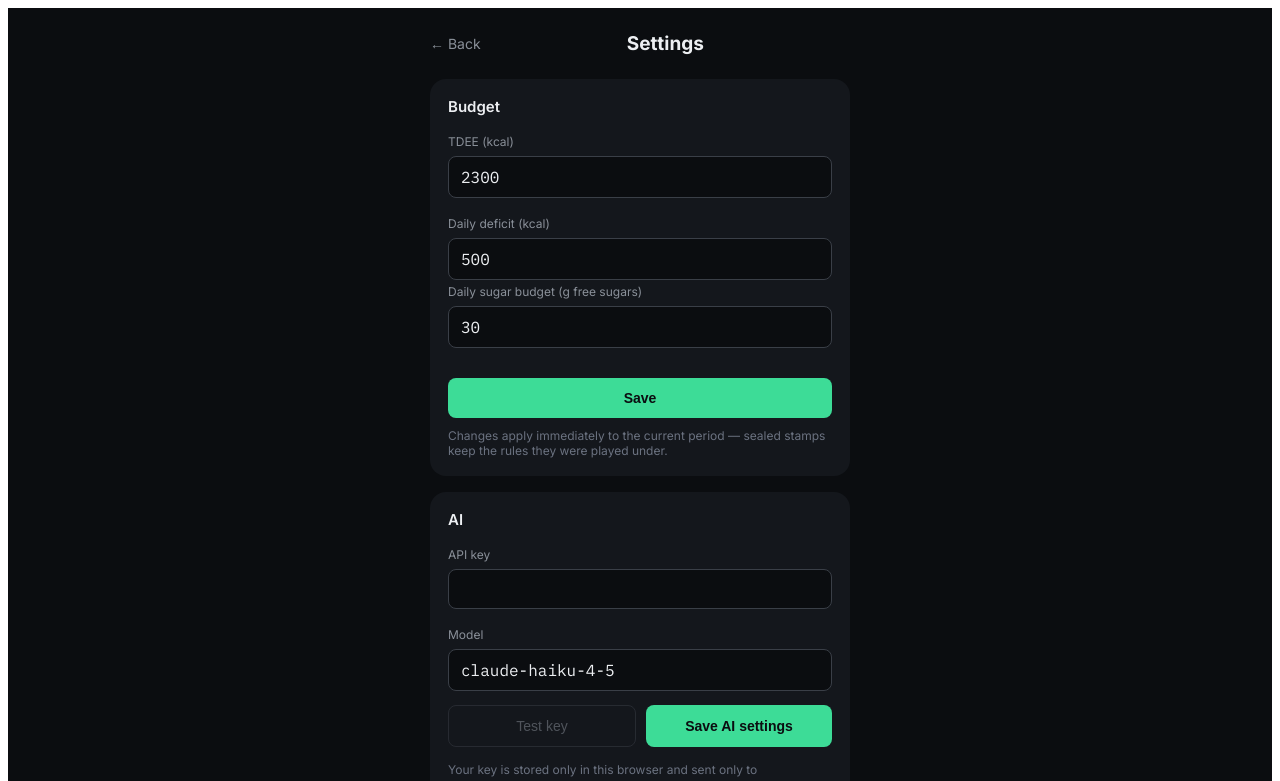
it: shows the error message when key test fails
Type "sk-ant-bad" into the password field labelled "API key" at (640, 589), box [448,569,832,609]
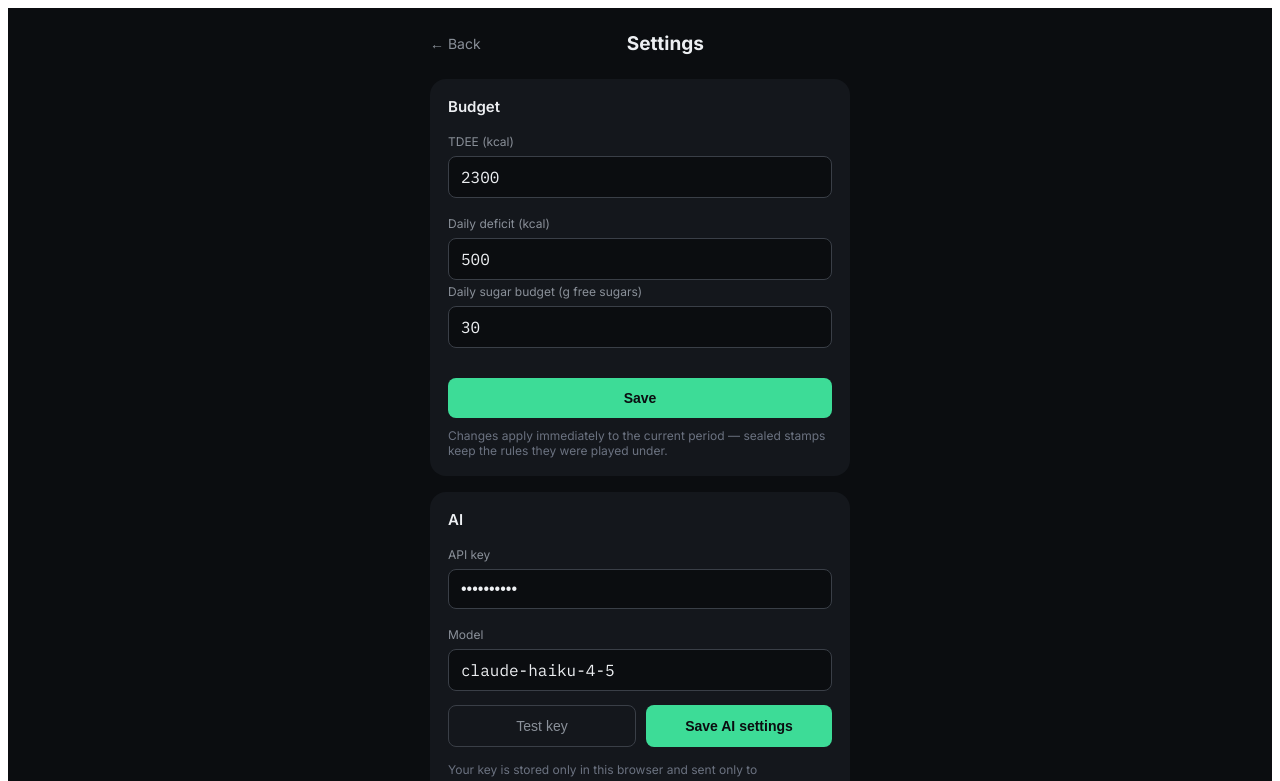
Click the button "Test key" at (542, 726), box [448,705,636,747]
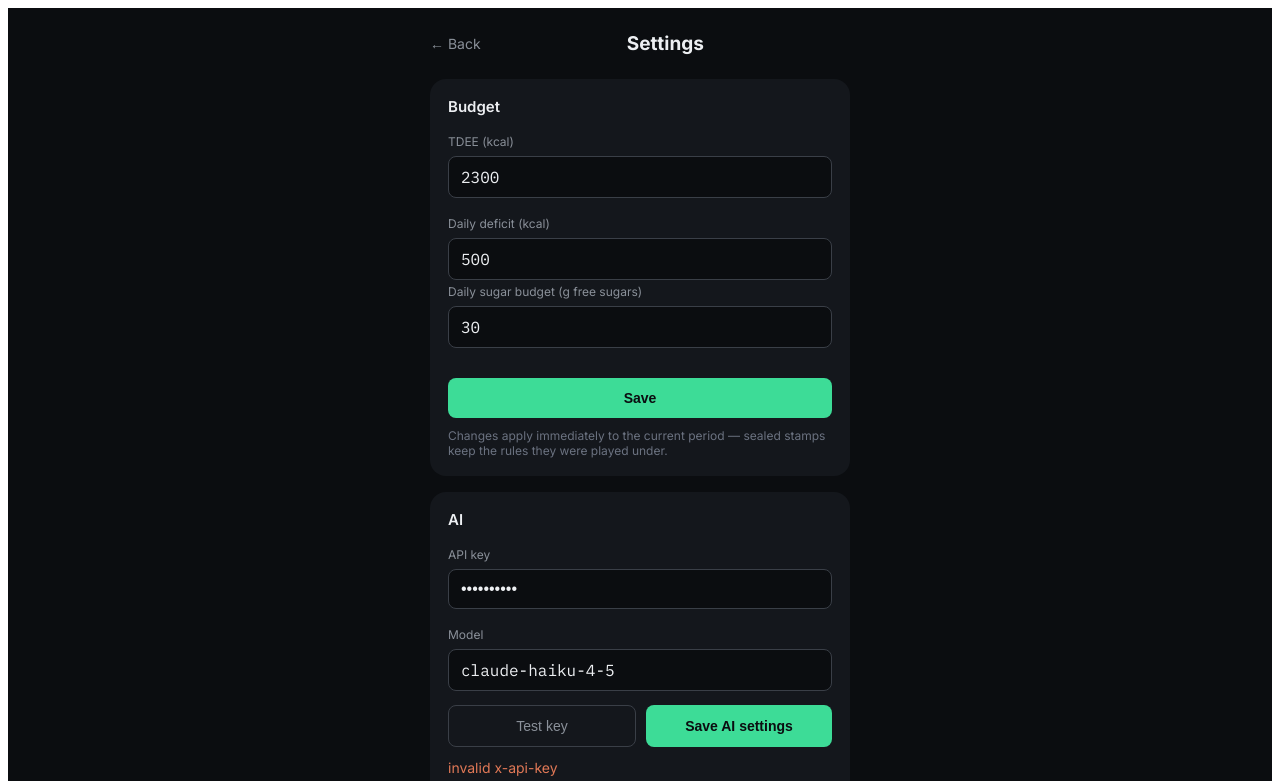
Now the text "invalid x-api-key" is shown, box [448,759,558,776]
